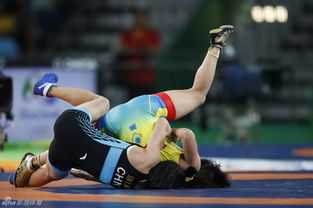fall: (16, 31, 235, 175)
